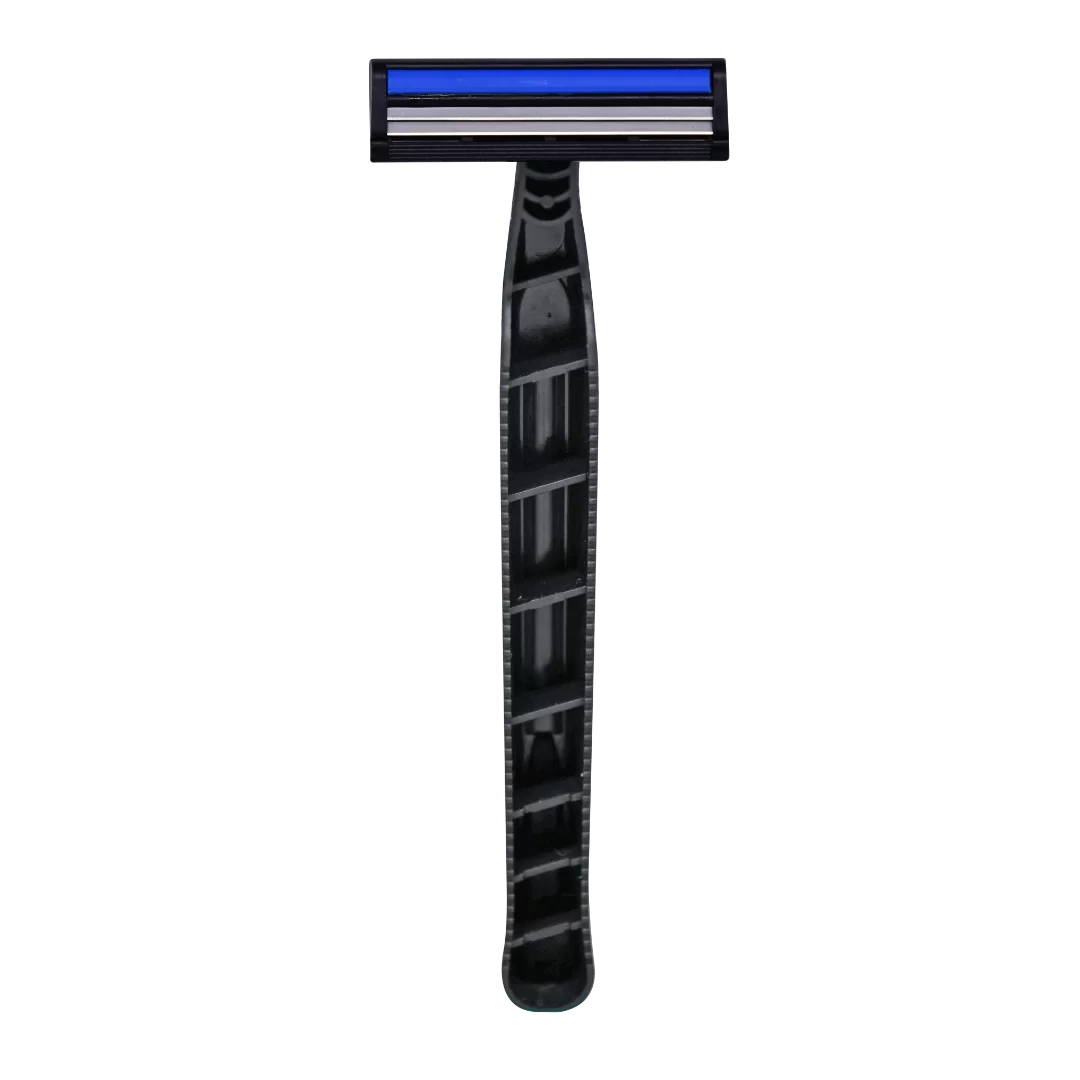non-toxic_waste: (366, 60, 728, 1008)
